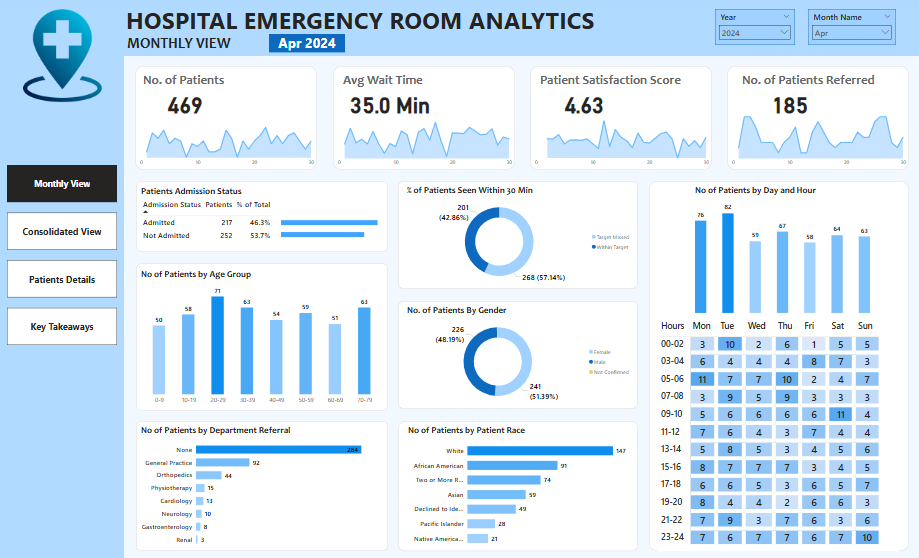

What the dashboard file says about the page in this screenshot:
{"tool":"powerbi","page":{"name":"Monthly View","canvas":[2300,1400],"ordinal":0},"visuals":[{"type":"shape","box":[338.6,164.3,455,260],"z":0},{"type":"shape","box":[0,0,310,1400],"z":1000},{"type":"shape","box":[310.8,0,1988,140],"z":2000},{"type":"textbox","box":[310.8,5.6,1313.2,95.2],"z":3000},{"type":"textbox","box":[313.3,80,303.3,60],"z":4000},{"type":"card","fields":{"Values":["Hospital ER_Data.No of Patients"]},"box":[392.5,220,140,75],"z":5000},{"type":"slicer","fields":{"Values":["Date Table.Year"]},"box":[1786.7,21.7,200,90],"z":6000},{"type":"slicer","fields":{"Values":["Date Table.Month Name"]},"box":[2020,23.3,220,90],"z":7000},{"type":"textbox","box":[352.5,175,230,50],"z":8000},{"type":"areaChart","fields":{"Category":["Date Table.Date.Variation.Date Hierarchy.Day"],"Y":["Hospital ER_Data.No of Patients"]},"box":[338.6,278.6,455,145.7],"z":9000},{"type":"card","fields":{"Values":["Min(Date Table.Month & Year)"]},"box":[671.2,85,190,46.2],"z":10000},{"type":"shape","box":[831.5,164.5,455,260],"z":11000},{"type":"shape","box":[1324.5,164.8,455,260],"z":12000},{"type":"shape","box":[1817.5,165,455,260],"z":13000},{"type":"textbox","box":[852.5,175,230,50],"z":14000},{"type":"shape","box":[340,452.5,630,177.5],"z":15000},{"type":"textbox","box":[1345,175,390,50],"z":16000},{"type":"textbox","box":[1850,175,390,50],"z":17000},{"type":"card","fields":{"Values":["Hospital ER_Data.Avg Wait Time"]},"box":[867.5,220,215,75],"z":18000},{"type":"card","fields":{"Values":["Hospital ER_Data.Satisfaction Score"]},"box":[1390,220,140,75],"z":19000},{"type":"card","fields":{"Values":["Hospital ER_Data.No of Patients Referred"]},"box":[1905,220,140,75],"z":20000},{"type":"areaChart","fields":{"Category":["Date Table.Date.Variation.Date Hierarchy.Day"],"Y":["Avg(Hospital ER_Data.Patient Waittime)"]},"box":[832.5,277.5,455,147.5],"z":21000},{"type":"areaChart","fields":{"Category":["Date Table.Date.Variation.Date Hierarchy.Day"],"Y":["Hospital ER_Data.Satisfaction Score"]},"box":[1325,277.5,455,147.5],"z":22000},{"type":"areaChart","fields":{"Category":["Date Table.Date.Variation.Date Hierarchy.Day"],"Y":["Hospital ER_Data.No of Patients Referred"]},"box":[1817.5,277.5,455,147.5],"z":23000},{"type":"pivotTable","title":"Patients Admission Status","fields":{"Rows":["Hospital ER_Data.Admission Status"],"Values":["Hospital ER_Data.No of Patients1","Hospital ER_Data.No of Patients"]},"box":[347.5,462.5,620,167.5],"z":24000},{"type":"barChart","fields":{"Category":["Hospital ER_Data.Admission Status"],"Y":["Hospital ER_Data.No of Patients"]},"box":[697.5,522.5,297.5,92.5],"z":25000},{"type":"shape","box":[340,657.5,630,370],"z":26000},{"type":"clusteredColumnChart","fields":{"Category":["Hospital ER_Data.Age Group"],"Y":["Hospital ER_Data.No of Patients"]},"box":[347.5,670,615,350],"z":27000},{"type":"shape","box":[340,1052.5,630,325],"z":28000},{"type":"clusteredBarChart","fields":{"Y":["Hospital ER_Data.No of Patients"],"Category":["Hospital ER_Data.Department Referral"]},"box":[347.5,1060,595,317.5],"z":29000},{"type":"shape","box":[995,452.5,600,270],"z":30000},{"type":"donutChart","title":"% of Patients Seen Within 30 Min","fields":{"Category":["Hospital ER_Data.Waittime Status"],"Y":["Hospital ER_Data.No of Patients"]},"box":[1013.3,460,575,260],"z":31000},{"type":"shape","box":[995,751.7,600,270],"z":32000},{"type":"donutChart","title":"No. of Patients By Gender","fields":{"Y":["Hospital ER_Data.No of Patients"],"Category":["Hospital ER_Data.Patient Gender"]},"box":[1013.3,760,575,260],"z":33000},{"type":"shape","box":[996,1052,600,326],"z":34000},{"type":"clusteredBarChart","fields":{"Y":["Hospital ER_Data.No of Patients"],"Category":["Hospital ER_Data.Patient Race"]},"box":[1014,1060,562,318],"z":35000},{"type":"shape","box":[1622.5,452.5,650,925],"z":36000},{"type":"pivotTable","fields":{"Rows":["Hospital ER_Data.Waittime Interval"],"Columns":["Date Table.Day Name"],"Values":["Hospital ER_Data.No of Patients"]},"box":[1643.3,793.3,605,585],"z":37000},{"type":"columnChart","title":"No of Patients by Day  and Hour","fields":{"Y":["Hospital ER_Data.No of Patients"],"Category":["Date Table.Day Name"]},"box":[1733.3,460,450,328.3],"z":38000},{"type":"image","box":[36.7,23.3,236.7,233.3],"z":39000},{"type":"pageNavigator","box":[17.5,412.5,275,452.5],"z":39001}]}

Visuals, with their boxes in screenshot pixels (x1, y1, x2, y2), scaled from the page's 2300x1400 canvas onto the 919x558 screenshot:
shape: [135, 65, 317, 169]
shape: [0, 0, 124, 557]
shape: [124, 0, 918, 56]
textbox: [124, 2, 649, 40]
textbox: [125, 32, 246, 56]
card - Hospital ER_Data.No of Patients: [157, 88, 213, 118]
slicer - Date Table.Year: [714, 9, 794, 45]
slicer - Date Table.Month Name: [807, 9, 895, 45]
textbox: [141, 70, 233, 90]
areaChart - Date Table.Date.Variation.Date Hierarchy.Day x Hospital ER_Data.No of Patients: [135, 111, 317, 169]
card - Min(Date Table.Month & Year): [268, 34, 344, 52]
shape: [332, 66, 514, 169]
shape: [529, 66, 711, 169]
shape: [726, 66, 908, 169]
textbox: [341, 70, 433, 90]
shape: [136, 180, 388, 251]
textbox: [537, 70, 693, 90]
textbox: [739, 70, 895, 90]
card - Hospital ER_Data.Avg Wait Time: [347, 88, 433, 118]
card - Hospital ER_Data.Satisfaction Score: [555, 88, 611, 118]
card - Hospital ER_Data.No of Patients Referred: [761, 88, 817, 118]
areaChart - Date Table.Date.Variation.Date Hierarchy.Day x Avg(Hospital ER_Data.Patient Waittime): [333, 111, 514, 169]
areaChart - Date Table.Date.Variation.Date Hierarchy.Day x Hospital ER_Data.Satisfaction Score: [529, 111, 711, 169]
areaChart - Date Table.Date.Variation.Date Hierarchy.Day x Hospital ER_Data.No of Patients Referred: [726, 111, 908, 169]
"Patients Admission Status" pivotTable: [139, 184, 387, 251]
barChart - Hospital ER_Data.Admission Status x Hospital ER_Data.No of Patients: [279, 208, 398, 245]
shape: [136, 262, 388, 410]
clusteredColumnChart - Hospital ER_Data.Age Group x Hospital ER_Data.No of Patients: [139, 267, 385, 407]
shape: [136, 419, 388, 549]
clusteredBarChart - Hospital ER_Data.No of Patients x Hospital ER_Data.Department Referral: [139, 422, 377, 549]
shape: [398, 180, 637, 288]
"% of Patients Seen Within 30 Min" donutChart: [405, 183, 635, 287]
shape: [398, 300, 637, 407]
"No. of Patients By Gender" donutChart: [405, 303, 635, 407]
shape: [398, 419, 638, 549]
clusteredBarChart - Hospital ER_Data.No of Patients x Hospital ER_Data.Patient Race: [405, 422, 630, 549]
shape: [648, 180, 908, 549]
pivotTable - Hospital ER_Data.Waittime Interval x Date Table.Day Name: [657, 316, 898, 549]
"No of Patients by Day  and Hour" columnChart: [693, 183, 872, 314]
image: [15, 9, 109, 102]
pageNavigator: [7, 164, 117, 345]
